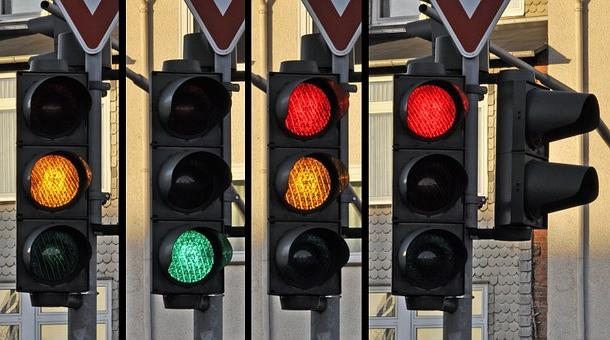trafic: (15, 71, 92, 291), (151, 72, 228, 292), (270, 70, 347, 290), (396, 72, 473, 292)
